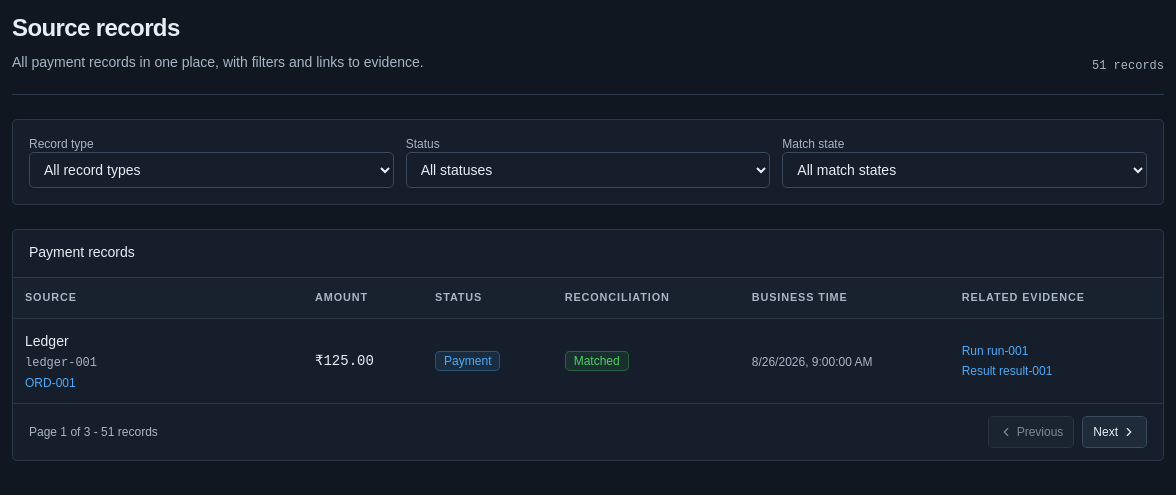
TransactionsPage › sends server-side filters and page changes to the API
Expected: the text "ORD-001" is shown, [25,376,76,390]
Select "Ledger" in the dropdown labelled "Record type" at [211, 170], box [29,152,394,188]
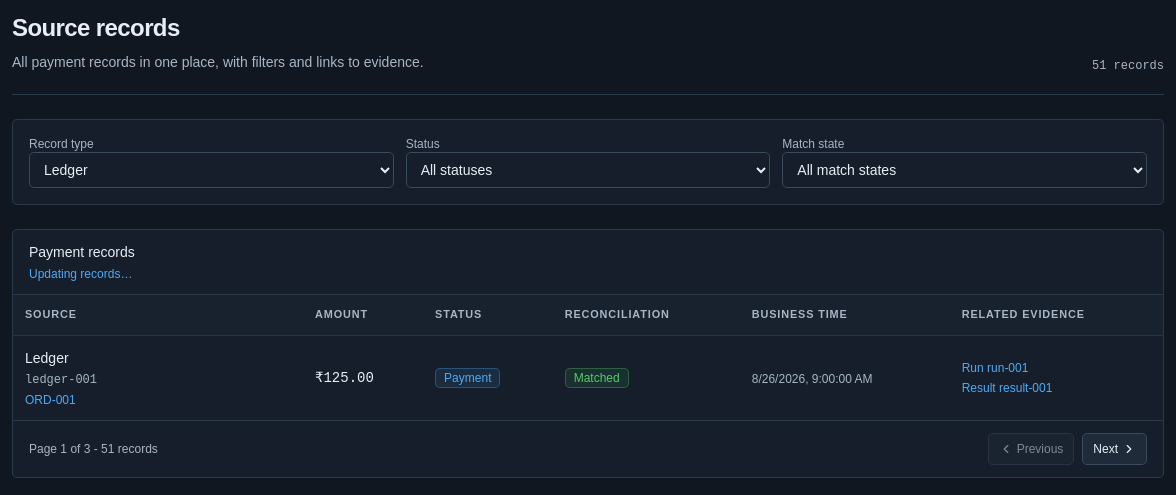
Select "Payment" in the dropdown labelled "Status" at [588, 170], box [406,152,770,188]
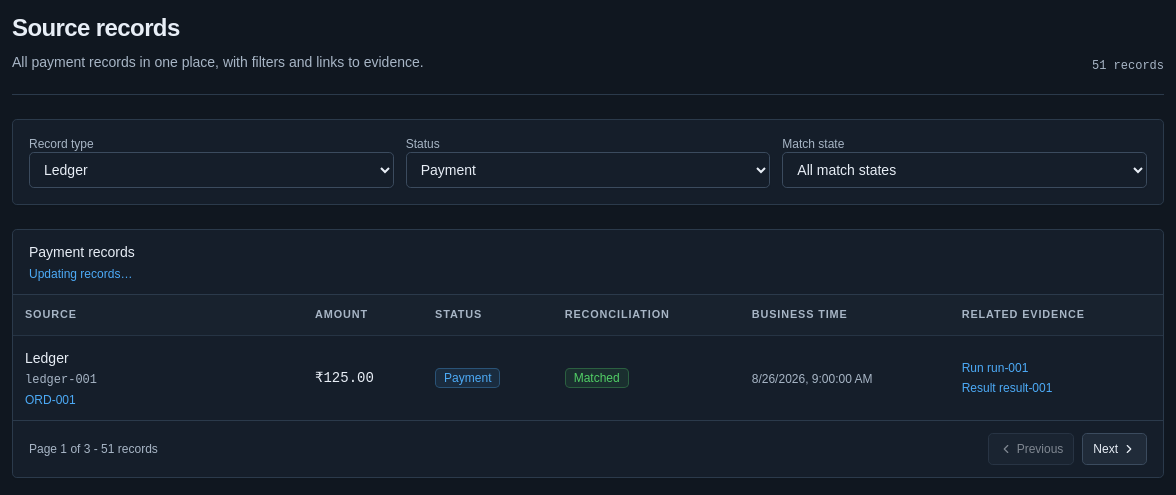
Select "Matched" in the dropdown labelled "Match state" at [965, 170], box [782,152,1147,188]
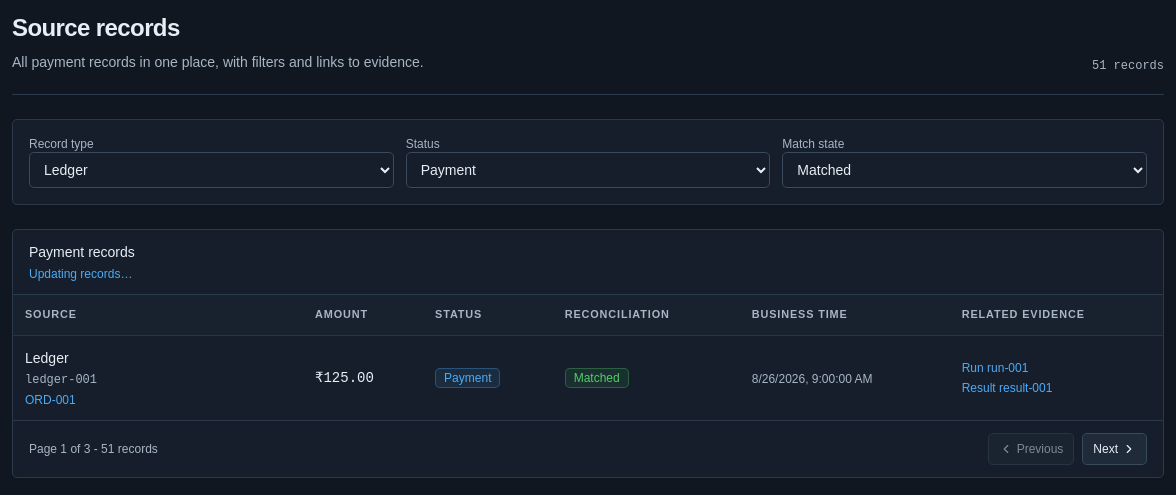
Click the button with aria-label "next page" at [1115, 448], box [1082,432,1147,464]
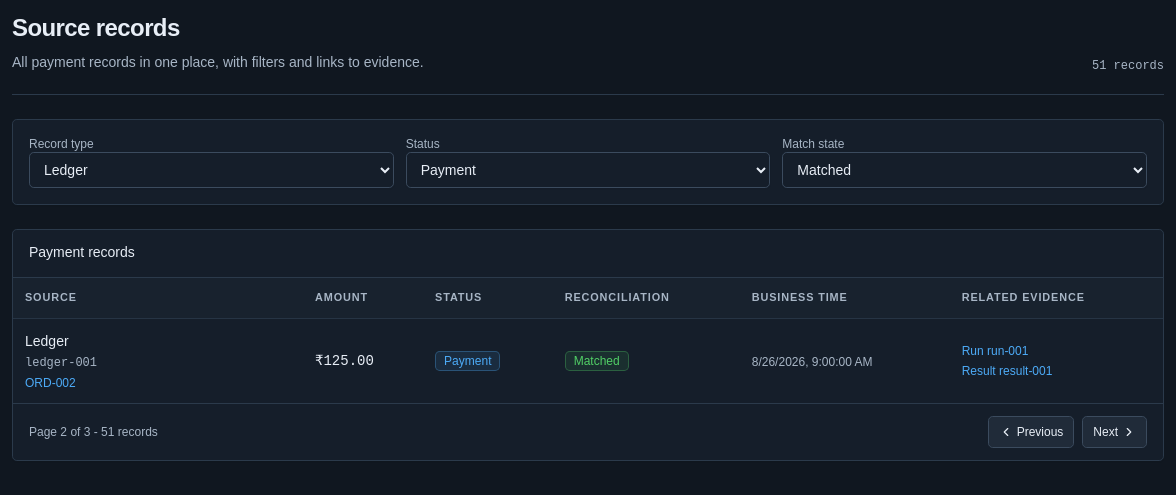
Expected: the text "ORD-002" is shown, [25,376,76,390]
